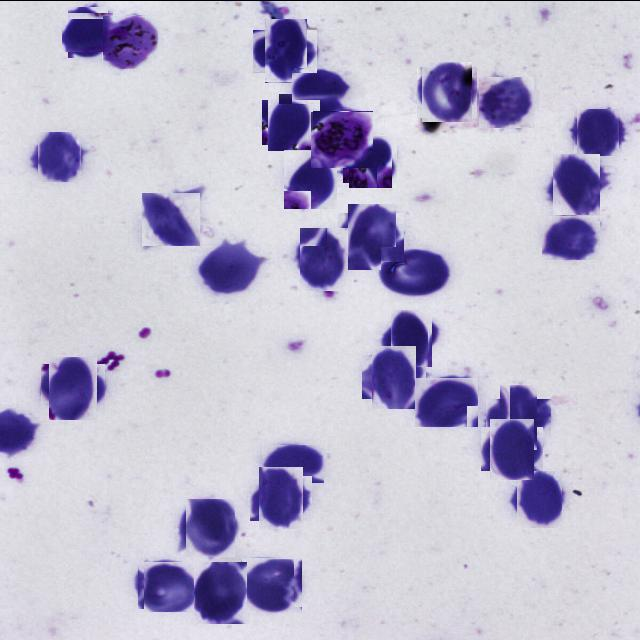difficult: (310, 110, 373, 167), (102, 14, 158, 68)
red blood cell: (190, 562, 248, 622), (342, 208, 400, 266), (241, 557, 302, 612), (381, 246, 448, 296), (283, 148, 337, 208), (198, 243, 261, 294), (414, 376, 478, 426), (296, 230, 352, 286), (45, 360, 101, 416), (143, 190, 199, 246), (420, 64, 474, 120), (549, 157, 604, 211), (367, 349, 421, 403), (183, 500, 237, 554), (137, 560, 194, 611), (254, 471, 308, 524), (258, 24, 312, 77), (479, 76, 534, 127), (514, 472, 566, 524), (492, 391, 544, 443), (486, 422, 538, 474), (542, 215, 600, 259), (266, 96, 316, 147), (386, 312, 436, 362), (262, 444, 324, 482), (346, 136, 394, 184), (292, 67, 354, 103), (36, 133, 82, 179), (576, 108, 620, 154), (66, 8, 110, 54)
